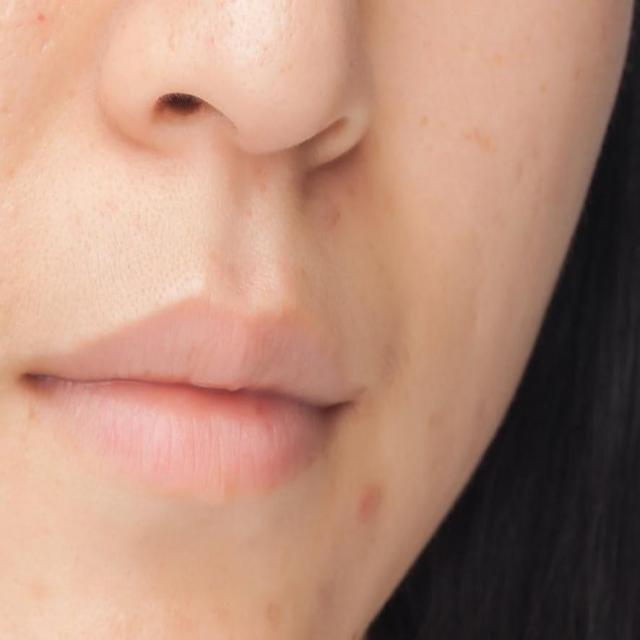blackheads: (356, 481, 376, 528)
